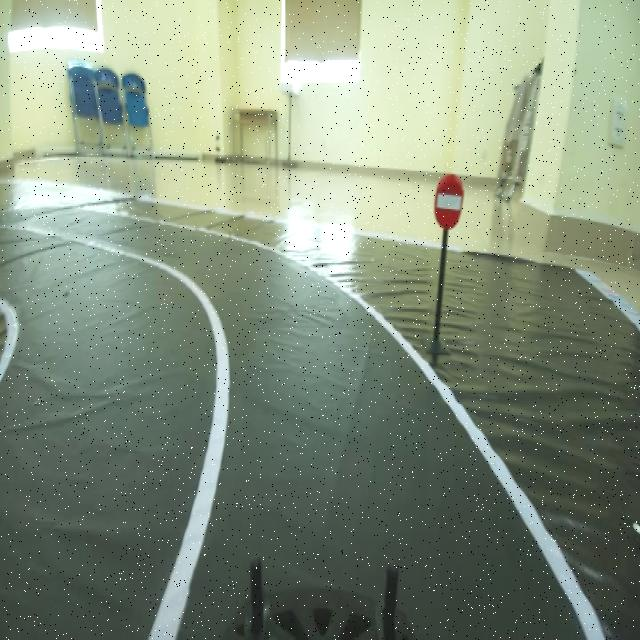no_entry: (435, 156, 469, 234)
